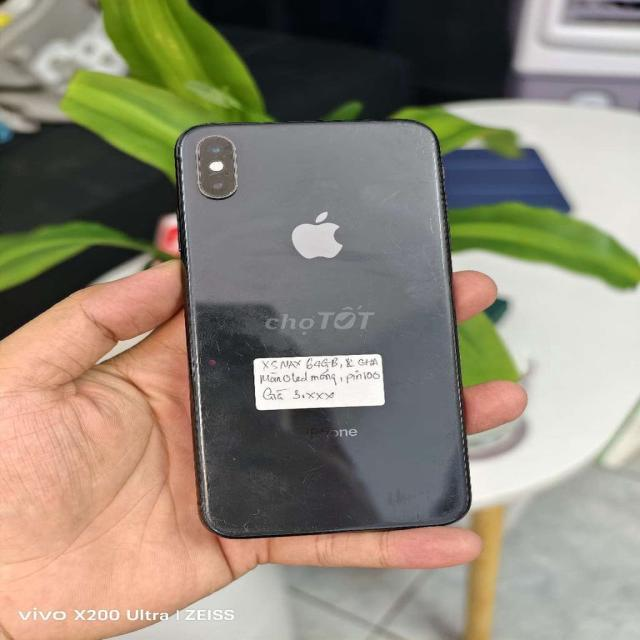gen_x_xs: (160, 116, 494, 542)
scratch: (175, 120, 478, 532)
